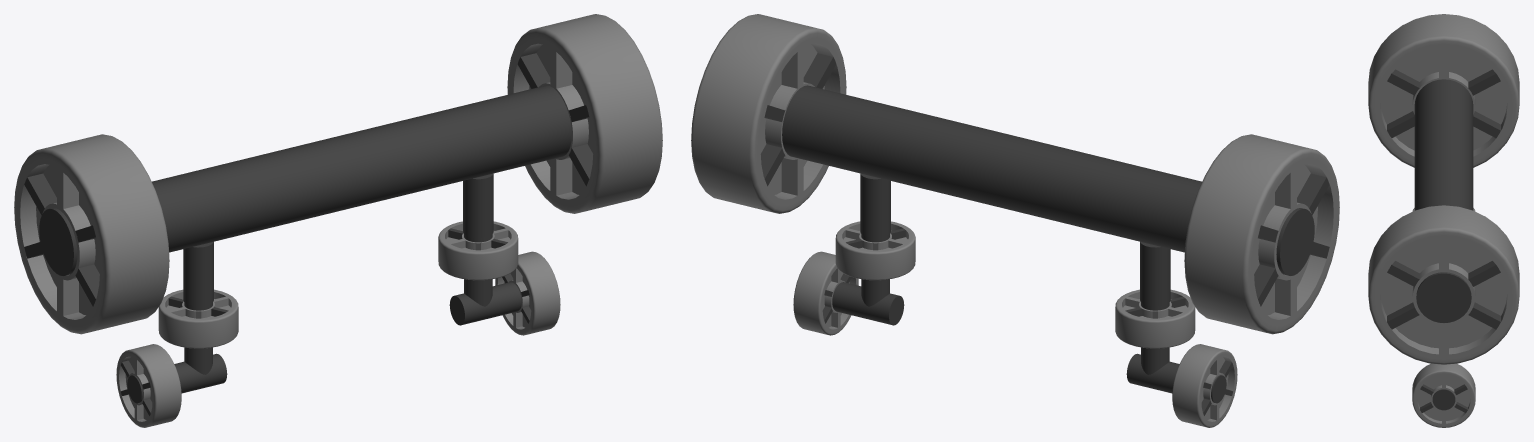
The model's file is StylizedCart_FrontWheelAssembly.glb.
3 renders of one model, left to right at view 1: azimuth 30°, elevation 25°; view 2: azimuth 150°, elevation 25°; view 3: azimuth 270°, elevation 25°, orthographic. The views are drawn at different scales.
Parts seen in each view (by area): view 1: StylizedCart_FrontWheelAssembly; view 2: StylizedCart_FrontWheelAssembly; view 3: StylizedCart_FrontWheelAssembly.
Part boxes in pixels (bbox=[...]): StylizedCart_FrontWheelAssembly: bbox=[14, 14, 662, 427]; StylizedCart_FrontWheelAssembly: bbox=[691, 14, 1339, 427]; StylizedCart_FrontWheelAssembly: bbox=[1368, 14, 1519, 427].
Bounding box in the file's own units: 1.28 × 0.6253 × 0.3744.
1 material, 1 textured.
